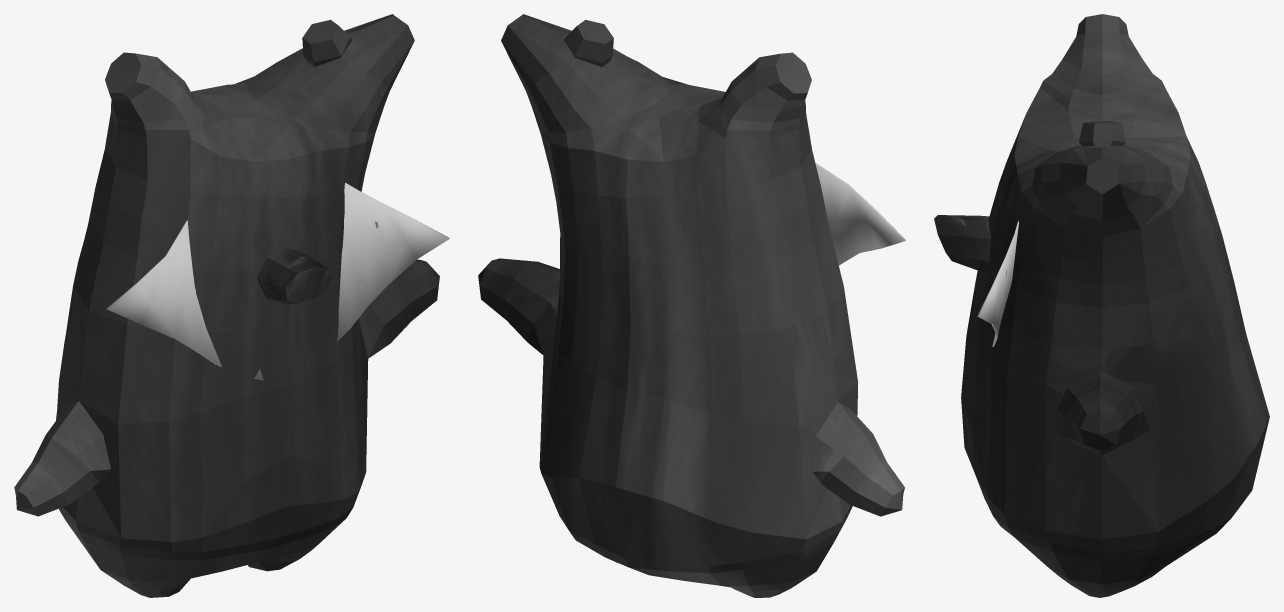
The model's file is frame_0048.obj.
3 renders of one model, left to right at view 1: azimuth 30°, elevation 25°; view 2: azimuth 150°, elevation 25°; view 3: azimuth 270°, elevation 25°, orthographic. The views are drawn at different scales.
Parts seen in each view (by area): view 1: korok, leaf, nose; view 2: korok, leaf; view 3: korok, nose, leaf.
Boxes of the visible parts, <box> form: korok: <box>14,14,439,597</box>; leaf: <box>106,182,449,380</box>; nose: <box>257,248,330,304</box>; korok: <box>478,14,904,597</box>; leaf: <box>815,162,905,265</box>; korok: <box>961,14,1269,597</box>; nose: <box>934,215,990,271</box>; leaf: <box>977,221,1018,346</box>.
Bounding box in the file's own units: 1.75 × 2.16 × 1.27.
